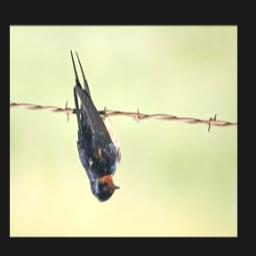Swallow: (68, 50, 121, 205)
